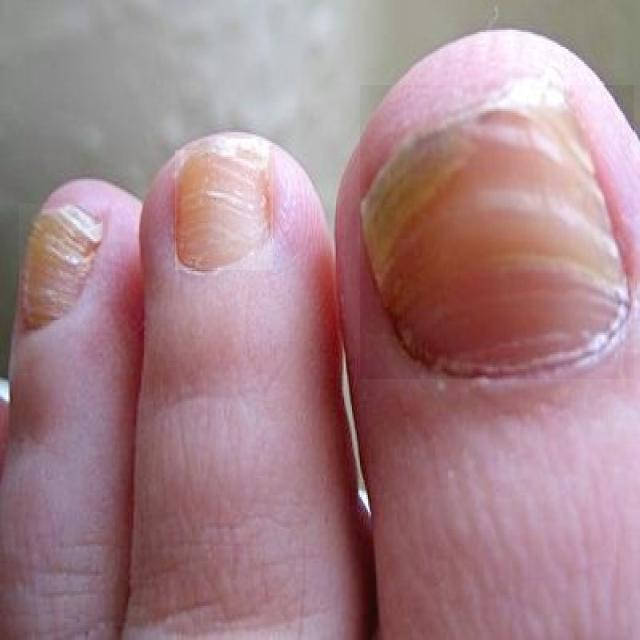diabetes: (360, 86, 634, 379), (175, 151, 273, 270), (20, 204, 106, 328)
